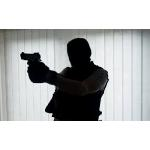Pistol: (18, 52, 44, 74)
